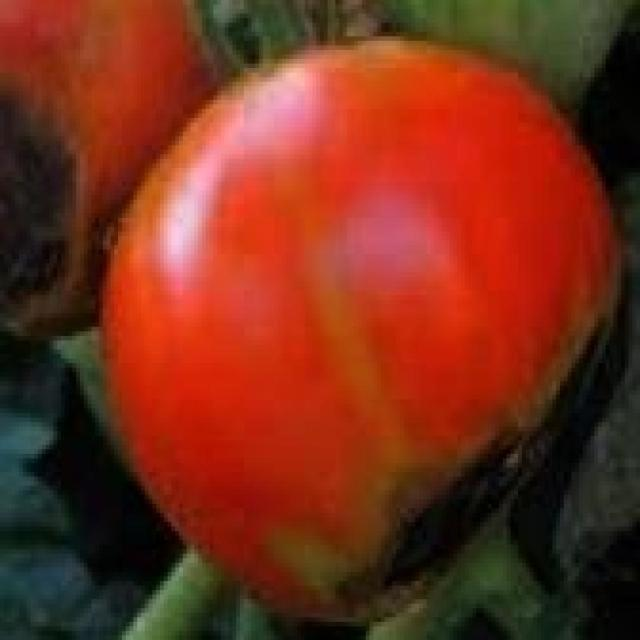Blossom End Rot Fruit: (25, 129, 328, 300)
